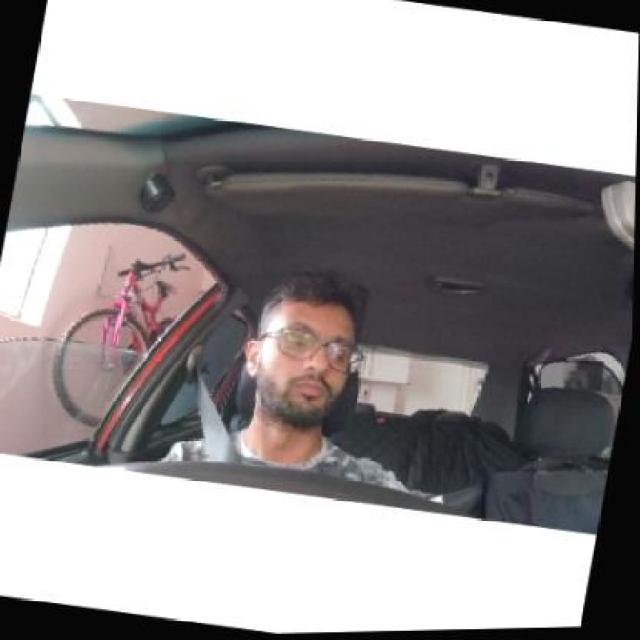LeftRight: (236, 265, 374, 449)
